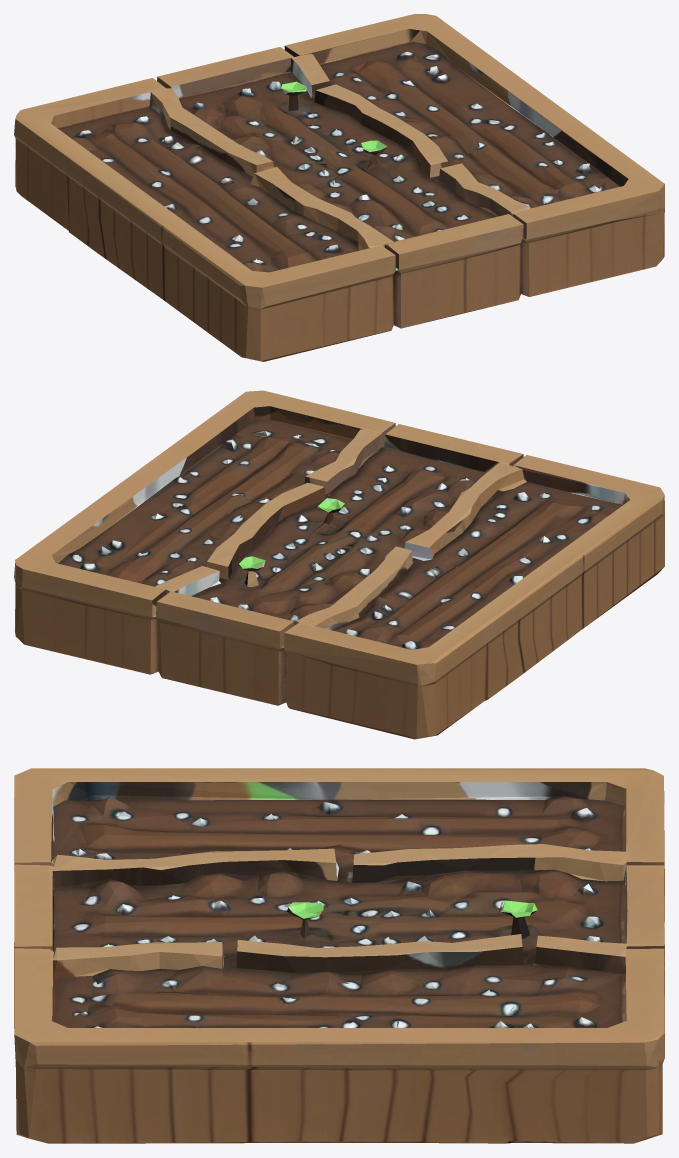
Rendered from parcela_plantacion.glb.
The picture shows the model from 3 angles, top to bottom: view 1: azimuth 30°, elevation 25°; view 2: azimuth 150°, elevation 25°; view 3: azimuth 270°, elevation 25°; orthographic projection. The views are drawn at different scales.
Visible parts, largest first — view 1: SM_Parcela_Plantacion; view 2: SM_Parcela_Plantacion; view 3: SM_Parcela_Plantacion.
Part boxes in pixels (box(x1,y1,x2,y2)): SM_Parcela_Plantacion: box(14, 14, 664, 361); SM_Parcela_Plantacion: box(14, 390, 664, 739); SM_Parcela_Plantacion: box(14, 768, 664, 1143).
Bounding box in the file's own units: 1.3 × 0.2533 × 1.3.
1 material, 1 textured.
